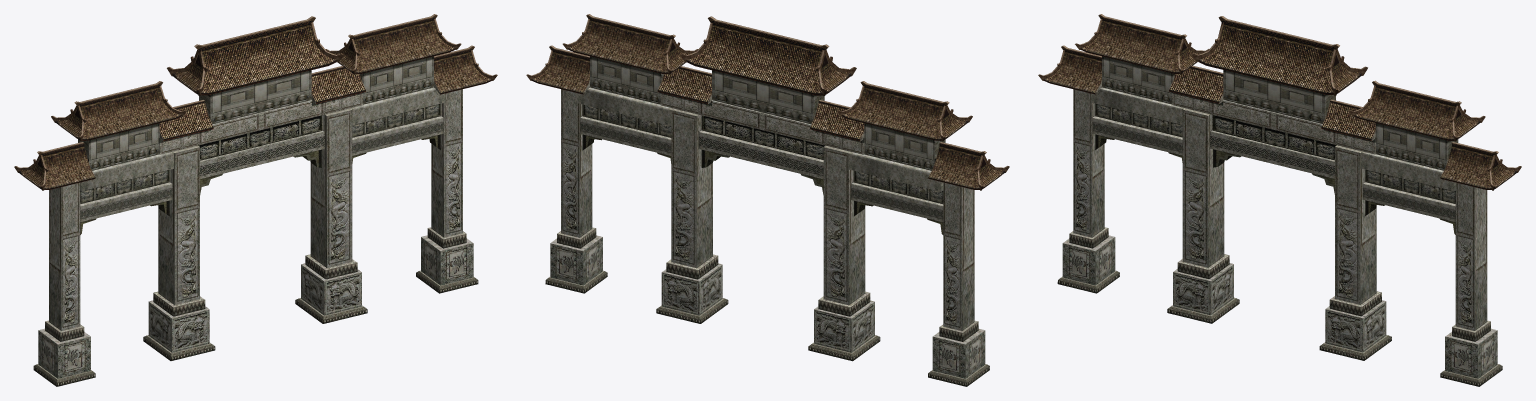
The model's file is stonedoor.glb.
3 views of the same model, side by side, from view 1: azimuth 30°, elevation 25°; view 2: azimuth 150°, elevation 25°; view 3: azimuth 330°, elevation 25° (orthographic).
Visible parts, largest first — view 1: b1-034-stonedoor-01, b1-034-stonedoor-02.001; view 2: b1-034-stonedoor-01, b1-034-stonedoor-02.001; view 3: b1-034-stonedoor-01, b1-034-stonedoor-02.001.
Part boxes in pixels (left/top/right/bottom): b1-034-stonedoor-01: left=14, top=14, right=497, bottom=386; b1-034-stonedoor-02.001: left=78, top=56, right=445, bottom=234; b1-034-stonedoor-01: left=526, top=14, right=1009, bottom=386; b1-034-stonedoor-02.001: left=577, top=56, right=945, bottom=234; b1-034-stonedoor-01: left=1038, top=14, right=1521, bottom=386; b1-034-stonedoor-02.001: left=1091, top=56, right=1458, bottom=234.
Size of the model in its own units: 2970 by 1841 by 351.
2 materials, 2 textured.
